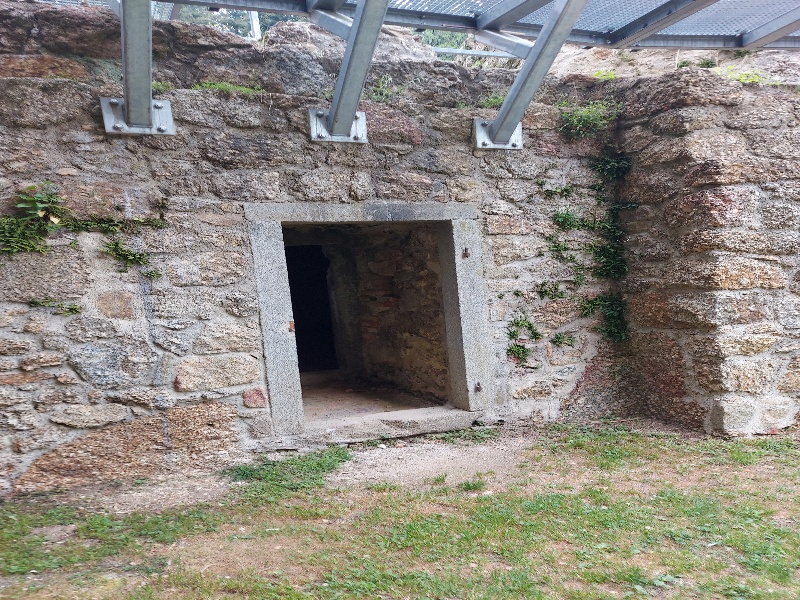door1: (237, 183, 502, 458)
